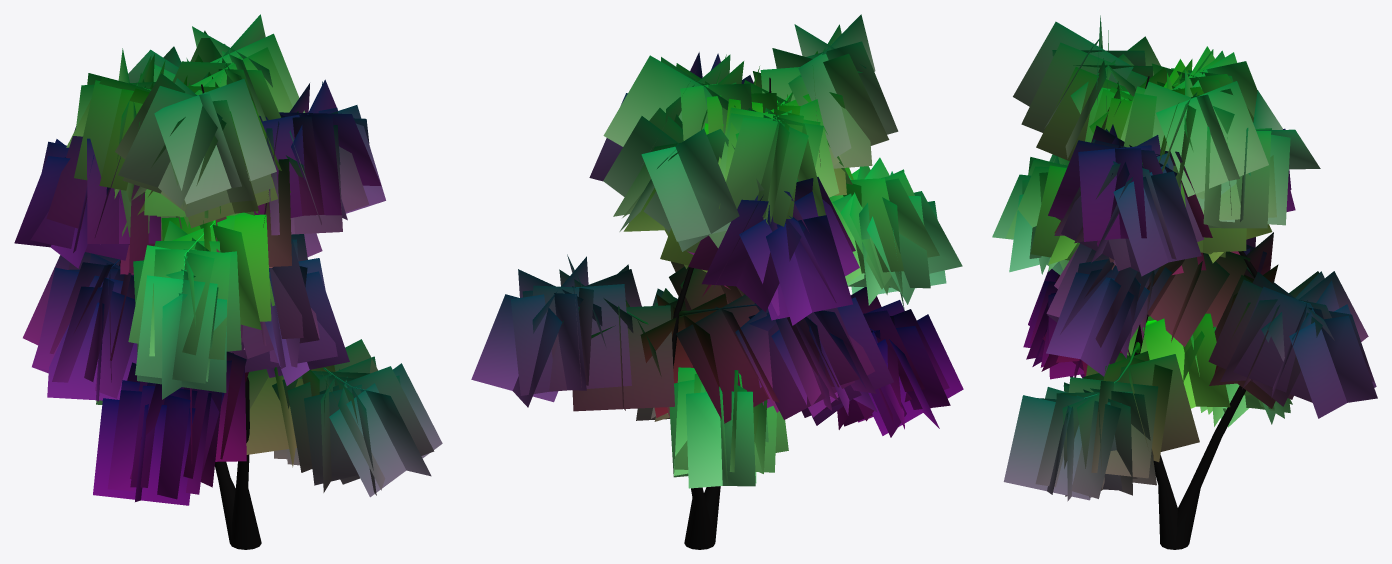
File: M_P13_Tree_5.fbx
The picture shows the model from 3 angles, left to right: view 1: azimuth 30°, elevation 25°; view 2: azimuth 150°, elevation 25°; view 3: azimuth 270°, elevation 25°; orthographic projection. The views are drawn at different scales.
Parts seen in each view (by area): view 1: Tree_5; view 2: Tree_5; view 3: Tree_5.
Boxes of the visible parts, x1=… form: Tree_5: x1=14, y1=14, x2=442, y2=549; Tree_5: x1=471, y1=14, x2=963, y2=549; Tree_5: x1=992, y1=15, x2=1377, y2=549.
Size of the model in its own units: 401 by 605 by 444.
